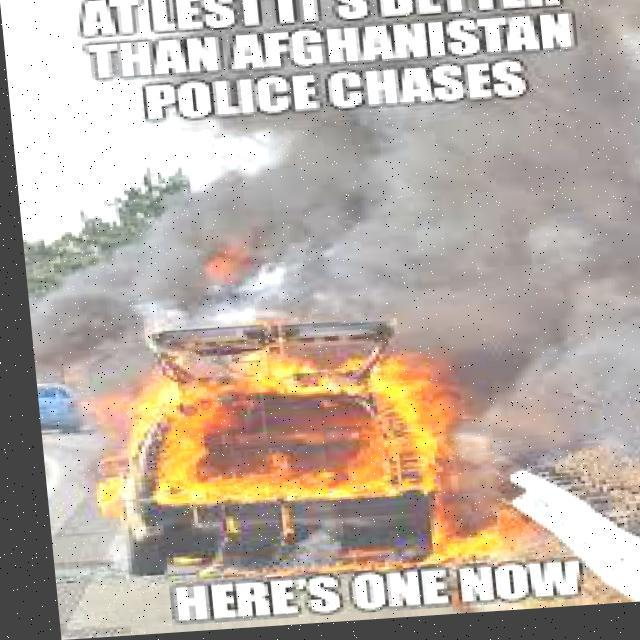Fire: (68, 322, 517, 594)
